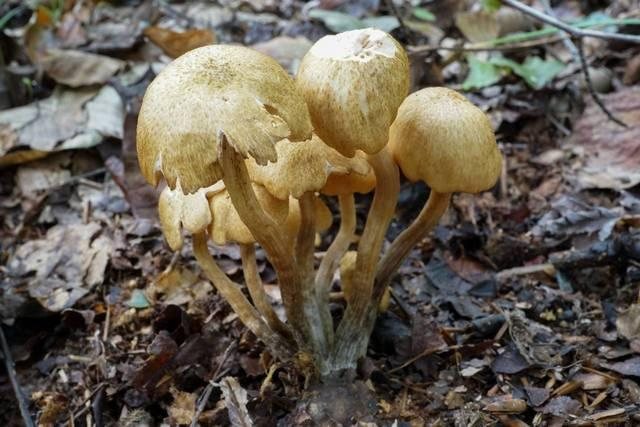edible_mushroom: (134, 27, 501, 373)
